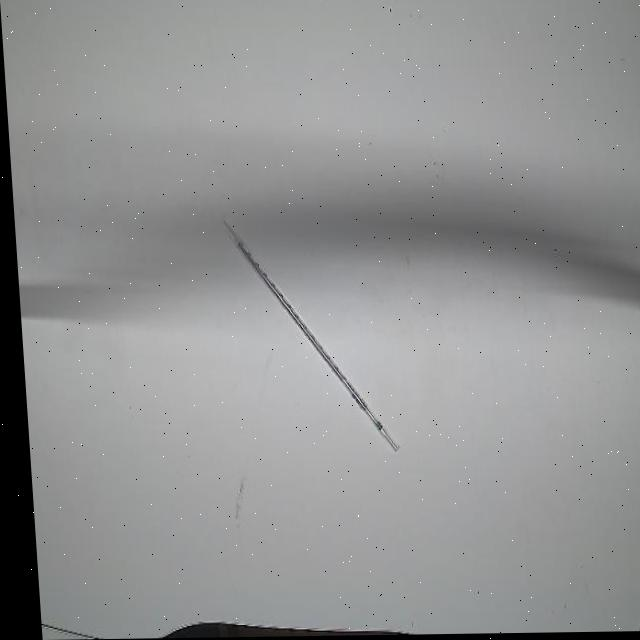Serelogical Pipet 2 mL: (214, 213, 395, 458)
